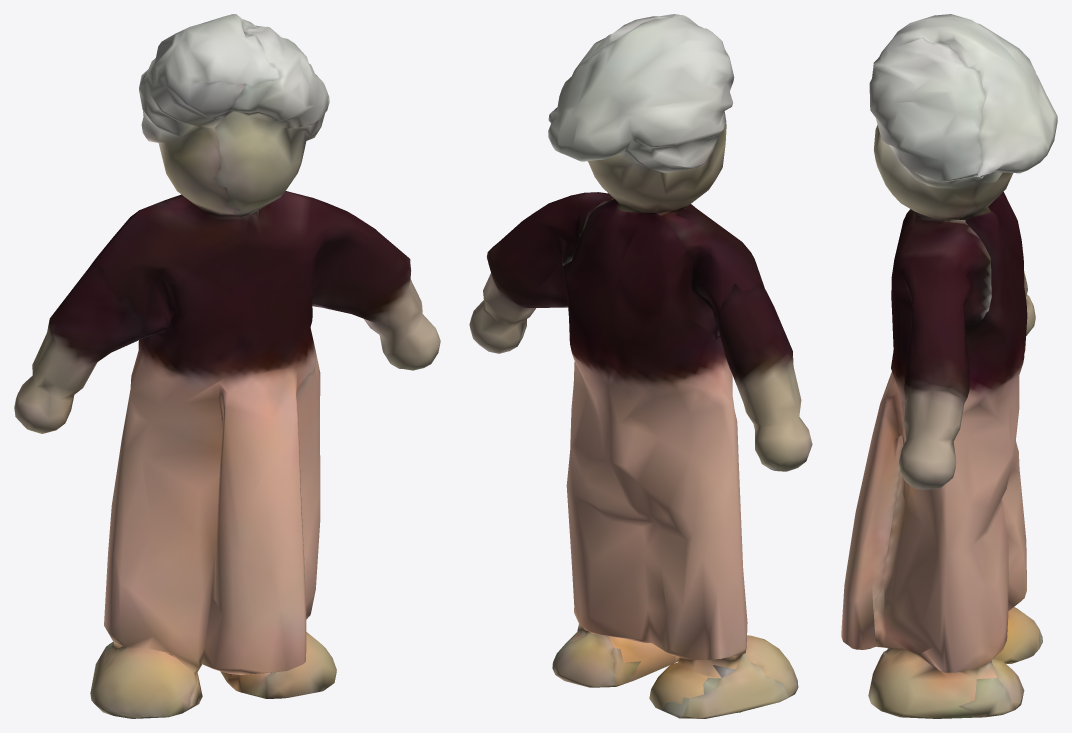
The model's file is GRANDMOTHER-medium.glb.
3 renders of one model, left to right at view 1: azimuth 30°, elevation 25°; view 2: azimuth 150°, elevation 25°; view 3: azimuth 270°, elevation 25°, orthographic.
Parts seen in each view (by area): view 1: GRANDMOTHER; view 2: GRANDMOTHER; view 3: GRANDMOTHER.
Part boxes in pixels (x1,y1,x2,y2): GRANDMOTHER: (14,14,440,718); GRANDMOTHER: (469,14,812,718); GRANDMOTHER: (841,14,1057,718).
Bounding box in the file's own units: 0.0769 × 0.1267 × 0.0382.
1 material, 1 textured.
